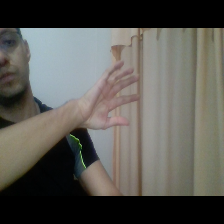left: (70, 56, 148, 131)
